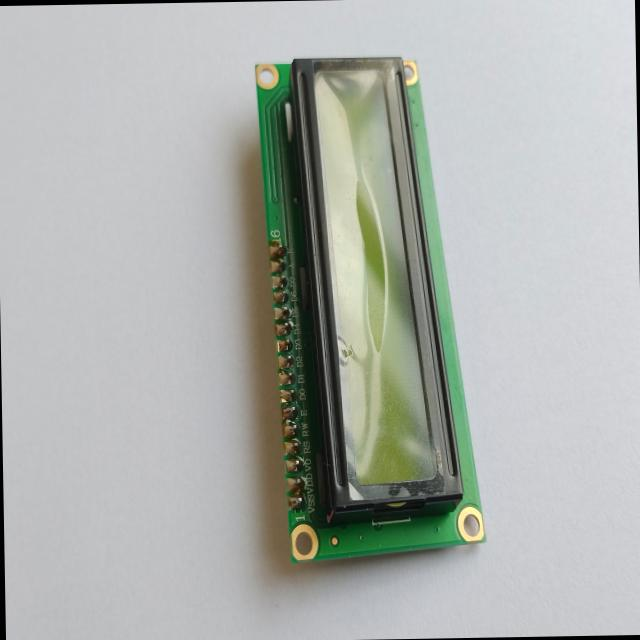lcd: (254, 52, 486, 565)
